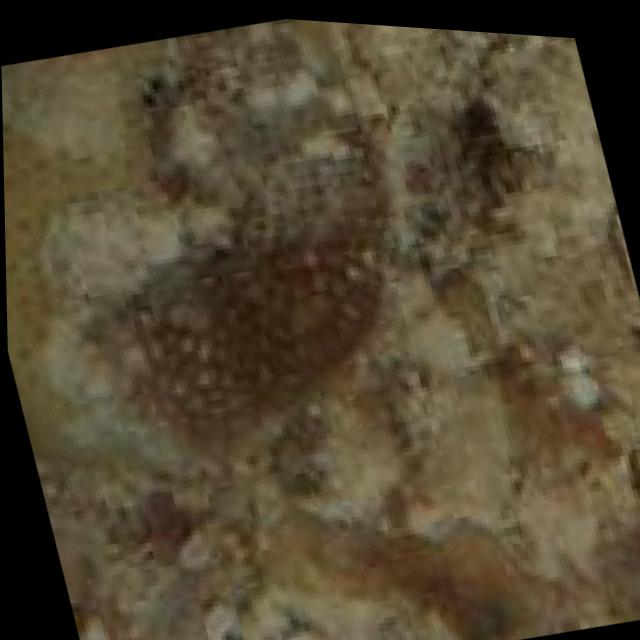Healthy Coral: (68, 191, 418, 501)
